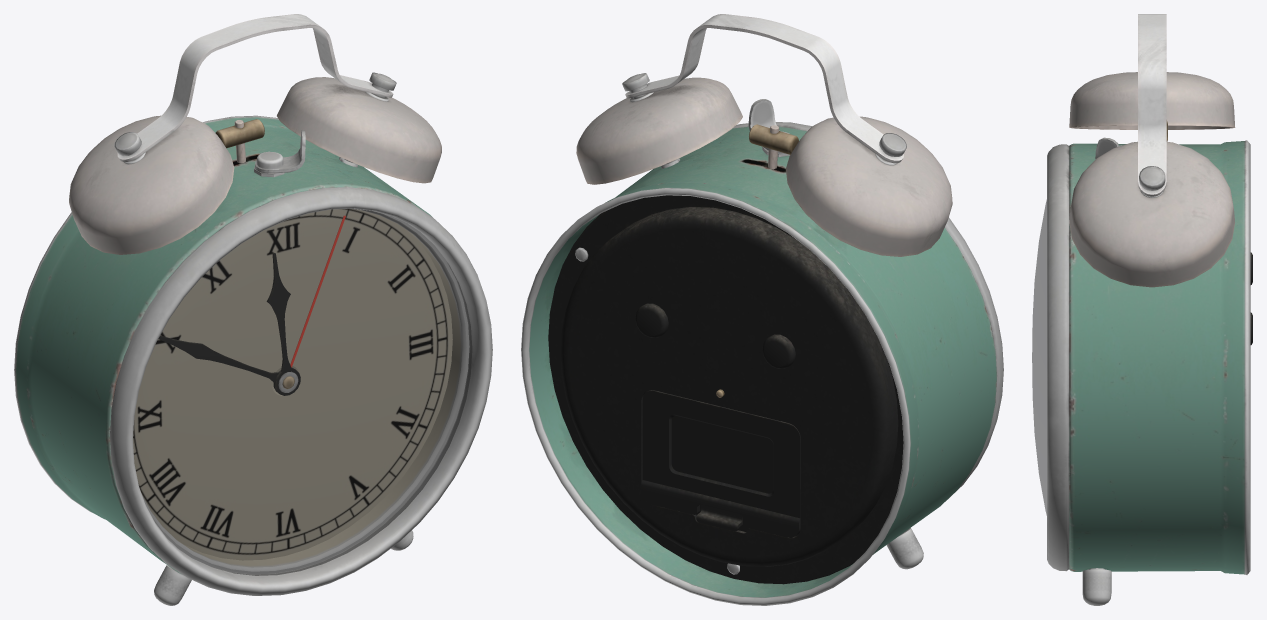
File: alarm_clock_01_rigid.fbx
3 views of the same model, side by side, from view 1: azimuth 30°, elevation 25°; view 2: azimuth 150°, elevation 25°; view 3: azimuth 270°, elevation 25° (orthographic). The views are drawn at different scales.
Visible parts, largest first — view 1: alarm_clock_01, alarm_clock_01_glass, alarm_clock_01_hour_hand, alarm_clock_01_minute_hand; view 2: alarm_clock_01; view 3: alarm_clock_01, alarm_clock_01_glass.
Part boxes in pixels (x1=…): alarm_clock_01: x1=14, y1=14, x2=492, y2=605; alarm_clock_01_glass: x1=133, y1=209, x2=472, y2=575; alarm_clock_01_hour_hand: x1=266, y1=253, x2=300, y2=395; alarm_clock_01_minute_hand: x1=158, y1=335, x2=293, y2=391; alarm_clock_01: x1=521, y1=14, x2=1003, y2=605; alarm_clock_01: x1=1047, y1=14, x2=1252, y2=605; alarm_clock_01_glass: x1=1032, y1=200, x2=1046, y2=515.
Bounding box in the file's own units: 13.17 × 17.42 × 6.67.
2 materials, 1 textured.
